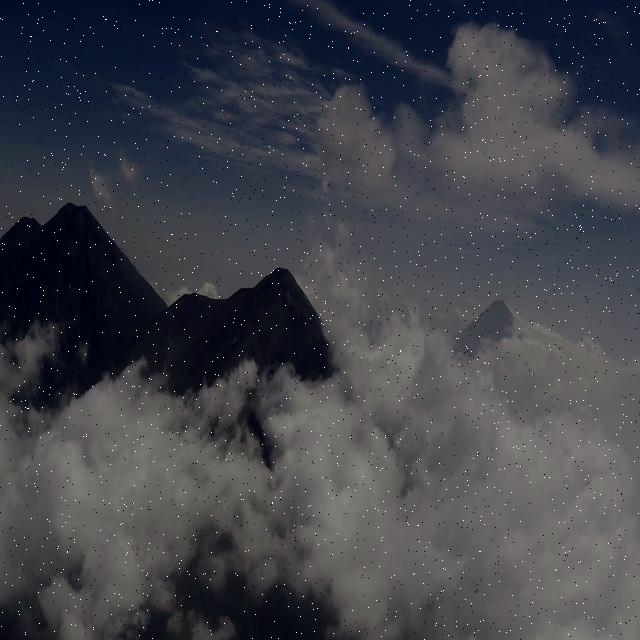Plume: (431, 14, 640, 213), (312, 68, 400, 210)
Summit: (228, 258, 310, 301)
